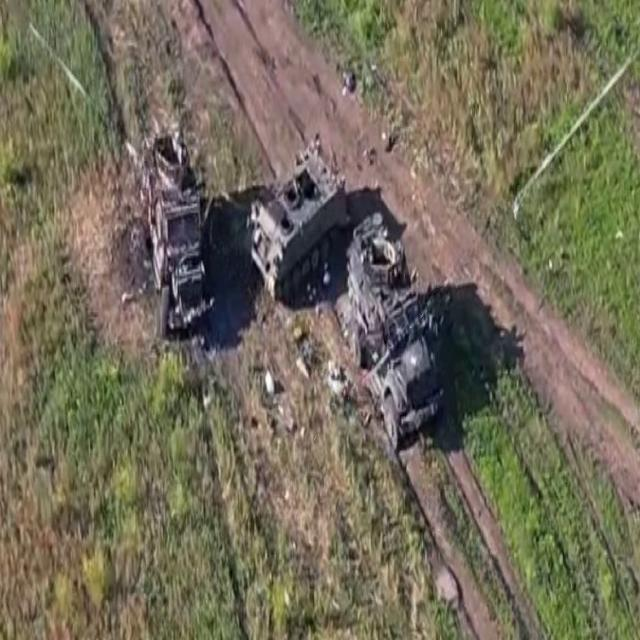APC: (245, 147, 349, 308)
Vehicle: (345, 210, 452, 457), (139, 125, 222, 340)
